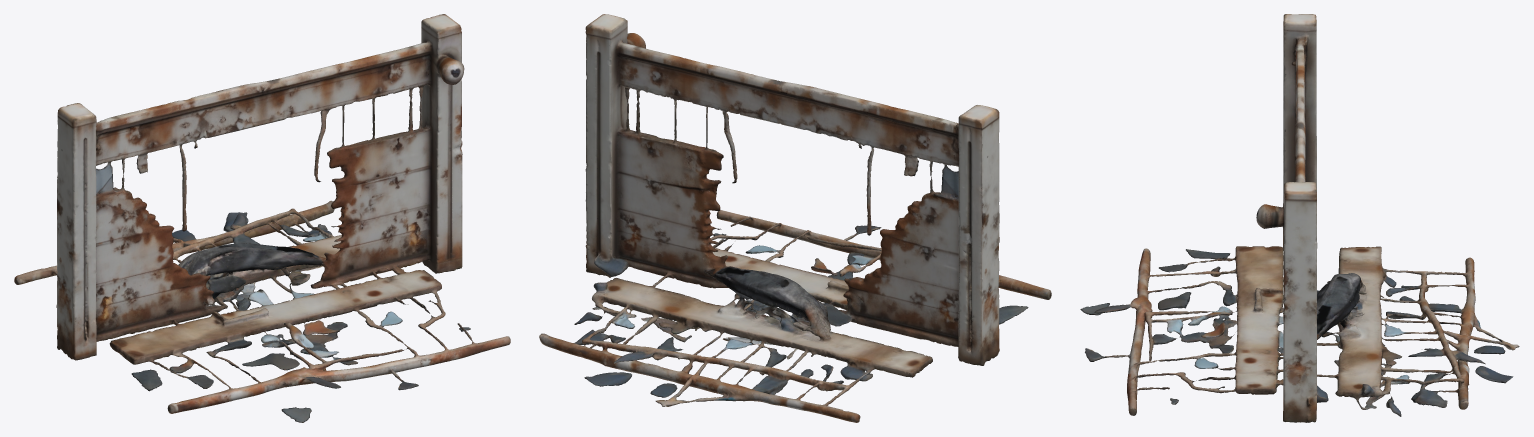
The model's file is Meshy_AI_Rusted_Frame_in_the_S_0505141730_texture.fbx.
3 renders of one model, left to right at view 1: azimuth 30°, elevation 25°; view 2: azimuth 150°, elevation 25°; view 3: azimuth 270°, elevation 25°, orthographic. The views are drawn at different scales.
Parts seen in each view (by area): view 1: Mesh_0; view 2: Mesh_0; view 3: Mesh_0.
Boxes of the visible parts, x1,y1,x2,y2 form: Mesh_0: (14, 14, 510, 422); Mesh_0: (539, 14, 1051, 422); Mesh_0: (1080, 14, 1519, 422).
Size of the model in its own units: 196 by 122 by 200.
Materials: 1 (1 with a texture image).
